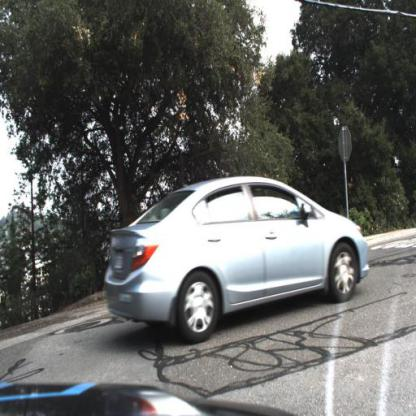car: (99, 173, 372, 347)
